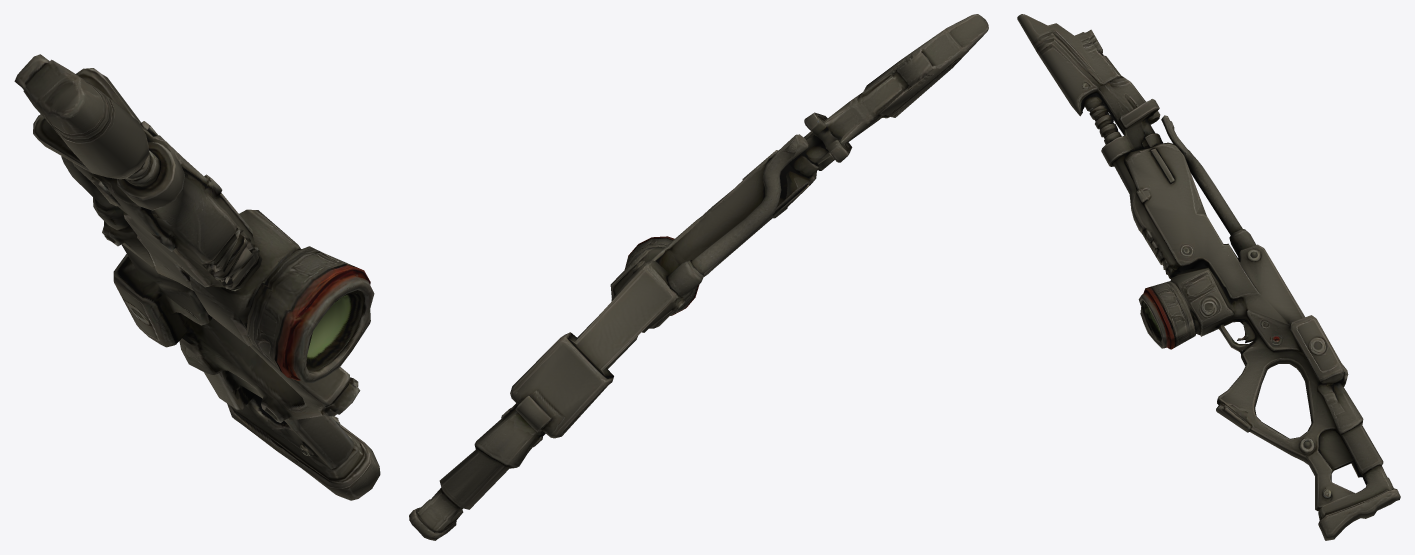
File: plasma_rifle.glb
3 views of the same model, side by side, from view 1: azimuth 30°, elevation 25°; view 2: azimuth 150°, elevation 25°; view 3: azimuth 270°, elevation 25° (orthographic). The views are drawn at different scales.
Visible parts, largest first — view 1: world; view 2: world; view 3: world.
Boxes of the visible parts, <box> form: world: <box>14,54,380,500</box>; world: <box>409,14,988,540</box>; world: <box>1017,14,1400,540</box>.
Bounding box in the file's own units: 0.8457 × 0.998 × 0.9004.
1 material, 1 textured.
